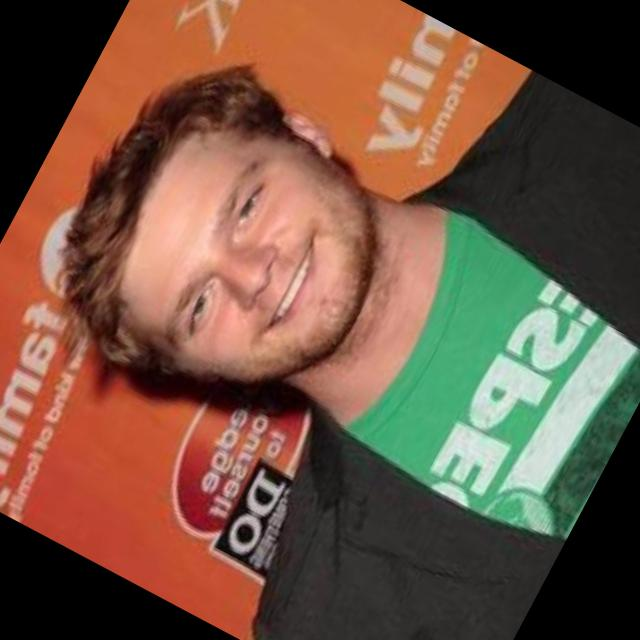bareface: (19, 61, 400, 457)
